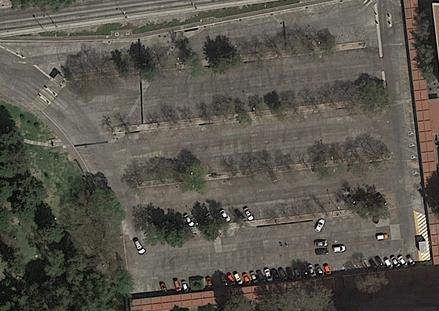parkingspot: (70, 27, 371, 74), (72, 48, 362, 96), (107, 79, 382, 127), (132, 253, 418, 298), (112, 104, 382, 147), (133, 140, 391, 182), (137, 160, 390, 201), (145, 192, 388, 231), (152, 213, 389, 250)
